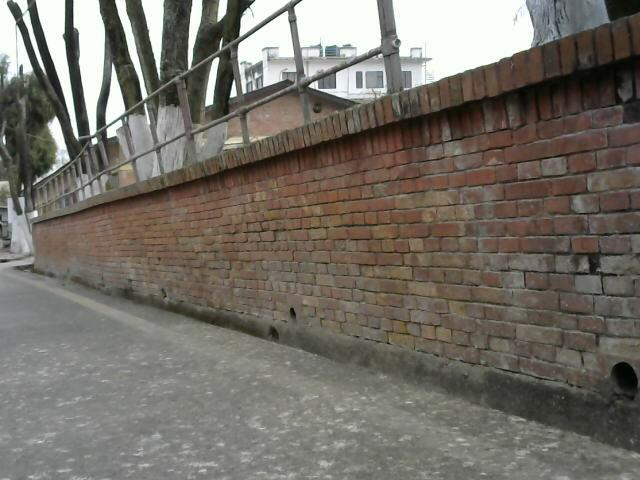Road: (0, 265, 640, 480)
Tree: (0, 1, 242, 149), (4, 66, 58, 272)
